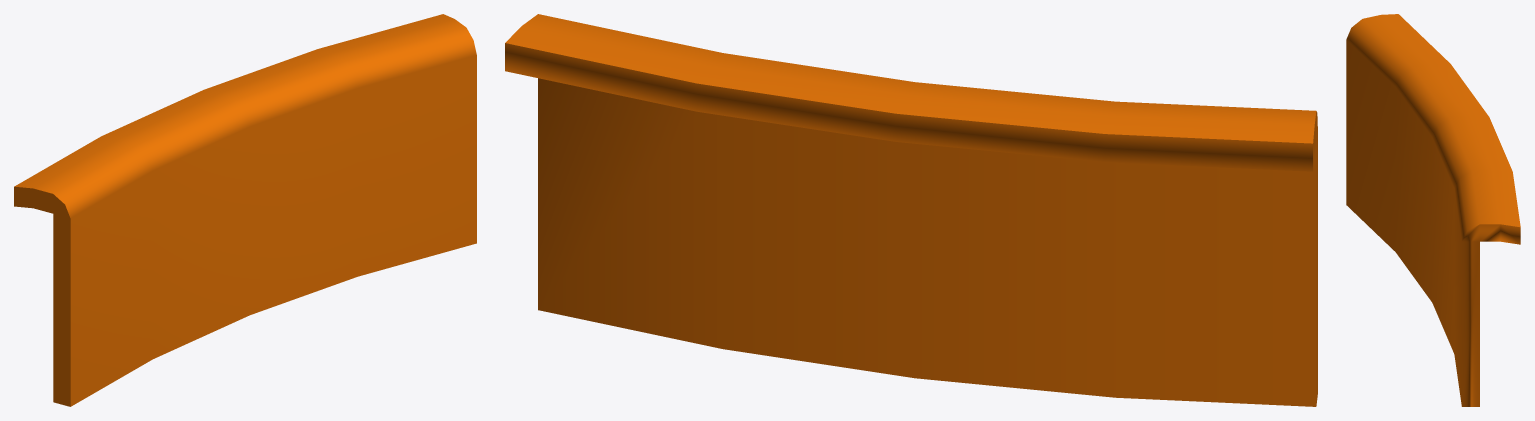
The model's file is Plastic_Pipe_E_Left_Inv.fbx.
3 views of the same model, side by side, from view 1: azimuth 30°, elevation 25°; view 2: azimuth 150°, elevation 25°; view 3: azimuth 270°, elevation 25° (orthographic). The views are drawn at different scales.
Visible parts, largest first — view 1: Plastic_Pipe_E_Left_Inv; view 2: Plastic_Pipe_E_Left_Inv; view 3: Plastic_Pipe_E_Left_Inv.
Boxes of the visible parts, x1=… form: Plastic_Pipe_E_Left_Inv: x1=14, y1=14, x2=476, y2=406; Plastic_Pipe_E_Left_Inv: x1=505, y1=14, x2=1317, y2=406; Plastic_Pipe_E_Left_Inv: x1=1346, y1=14, x2=1520, y2=406.
Bounding box in the file's own units: 6.18 × 2.47 × 2.14.
